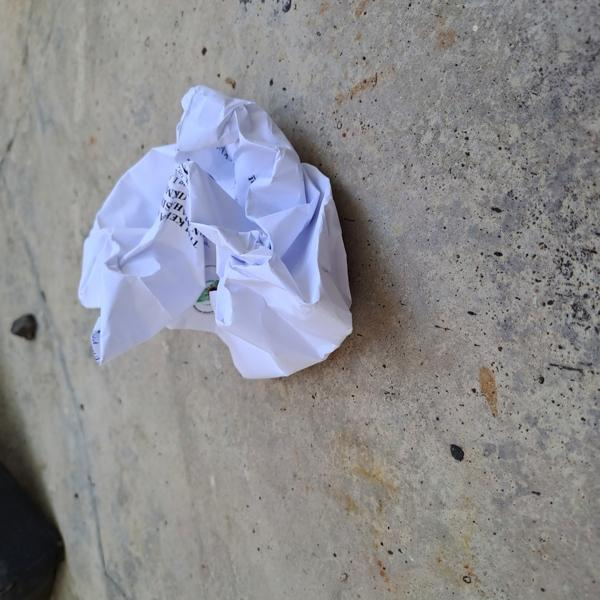Organik: (82, 72, 370, 423)
